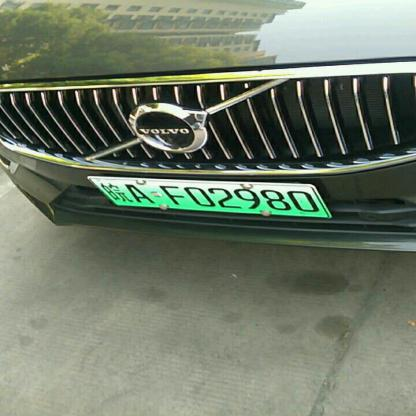lp: (88, 177, 331, 217)
